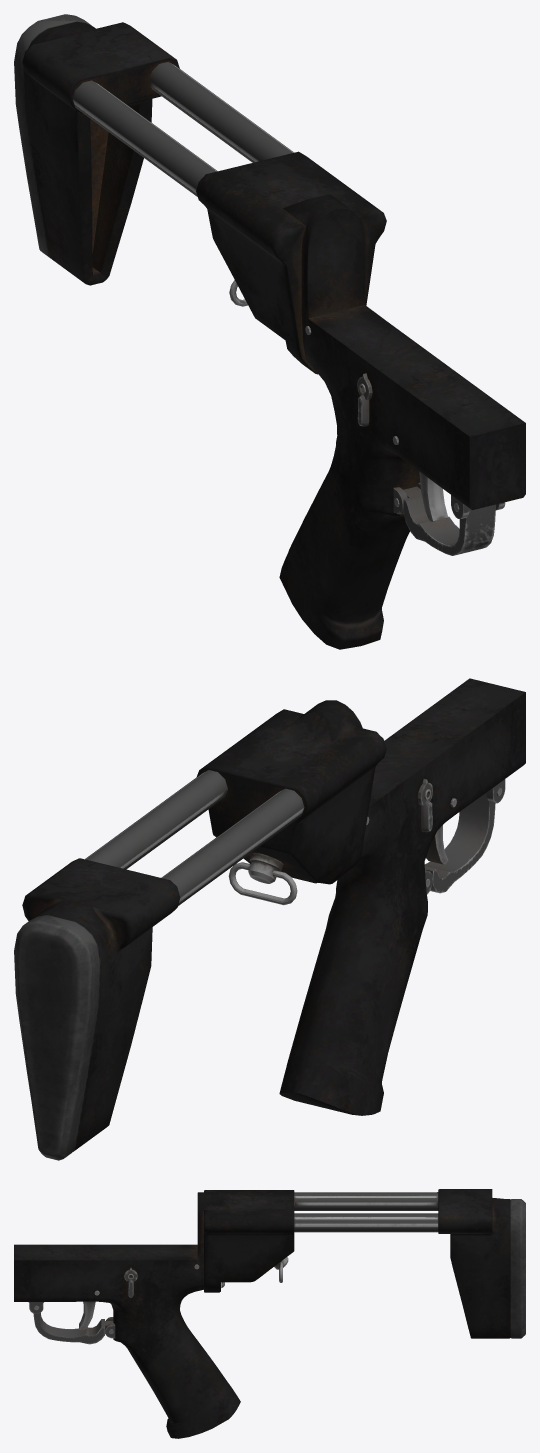
Rendered from Stock_SMG_2.glb.
3 renders of one model, top to bottom at view 1: azimuth 30°, elevation 25°; view 2: azimuth 150°, elevation 25°; view 3: azimuth 270°, elevation 25°, orthographic. The views are drawn at different scales.
Visible parts, largest first — view 1: Stock_SMG_2; view 2: Stock_SMG_2; view 3: Stock_SMG_2.
Boxes of the visible parts, x1=… form: Stock_SMG_2: x1=14, y1=14, x2=525, y2=649; Stock_SMG_2: x1=14, y1=678, x2=525, y2=1160; Stock_SMG_2: x1=14, y1=1189, x2=525, y2=1438.
Size of the model in its own units: 0.0449 by 0.1596 by 0.3091.
Materials: 1 (1 with a texture image).
